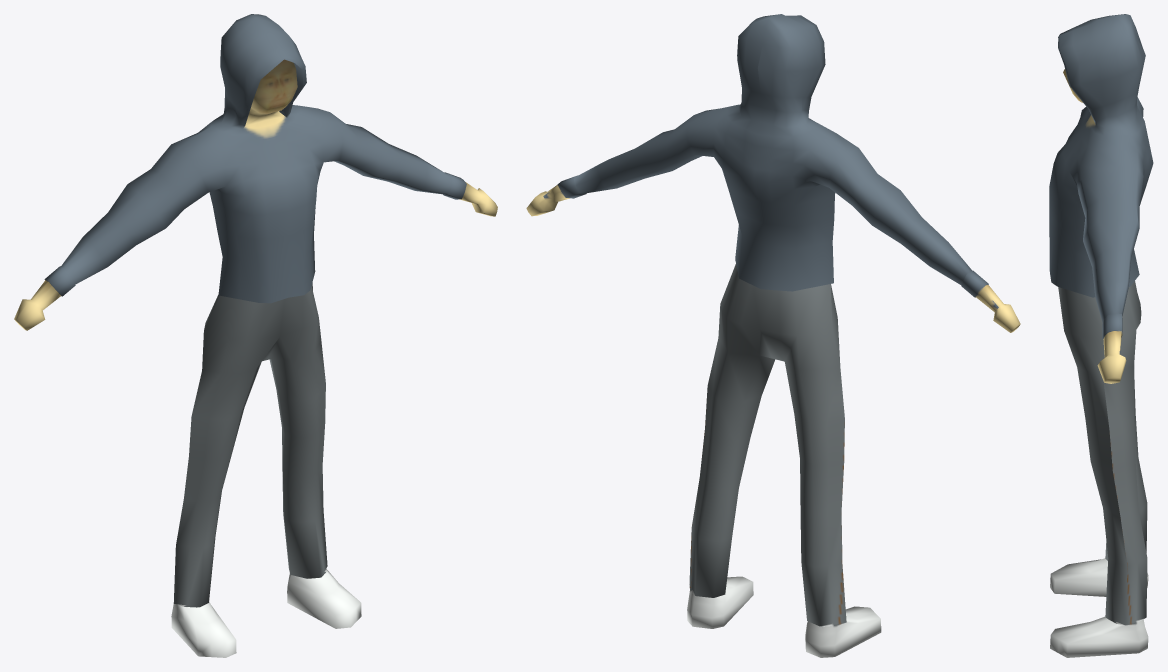
Rendered from lowPolyMan.fbx.
3 renders of one model, left to right at view 1: azimuth 30°, elevation 25°; view 2: azimuth 150°, elevation 25°; view 3: azimuth 270°, elevation 25°, orthographic. The views are drawn at different scales.
Parts seen in each view (by area): view 1: Cube; view 2: Cube; view 3: Cube.
Boxes of the visible parts, x1,y1,x2,y2 form: Cube: (14,14,497,657); Cube: (526,14,1020,657); Cube: (1049,14,1153,657).
Bounding box in the file's own units: 179 × 216 × 33.72.
